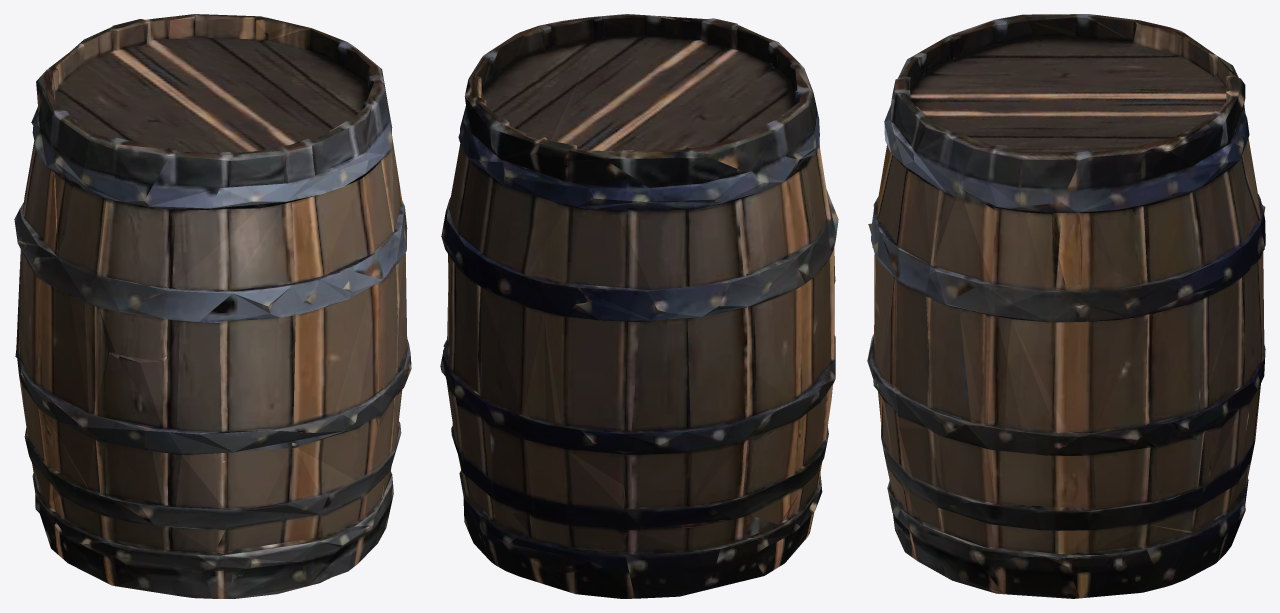
Rendered from combat_broken_barrel_01.glb.
The picture shows the model from 3 angles, left to right: view 1: azimuth 30°, elevation 25°; view 2: azimuth 150°, elevation 25°; view 3: azimuth 270°, elevation 25°; orthographic projection.
Visible parts, largest first — view 1: geometry_0; view 2: geometry_0; view 3: geometry_0.
Part boxes in pixels (bbox=[...]): geometry_0: bbox=[14, 14, 411, 598]; geometry_0: bbox=[440, 14, 838, 598]; geometry_0: bbox=[867, 14, 1265, 598].
Size of the model in its own units: 0.8101 by 0.9976 by 0.8073.
1 material, 1 textured.
